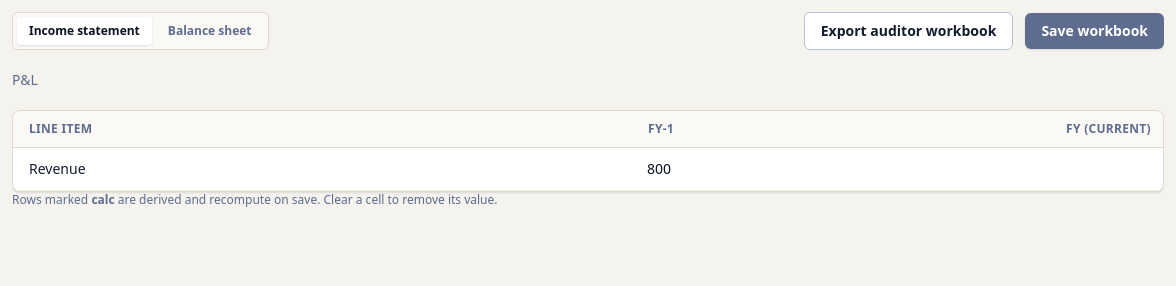
Test case: WorkbookTab — edges › when the server will not answer › says why the auditor export could not be produced
Check: the text "Revenue" is shown, box [13, 148, 209, 190]
Click the button "Export auditor workbook": {"x": 909, "y": 31} [804, 12, 1013, 50]
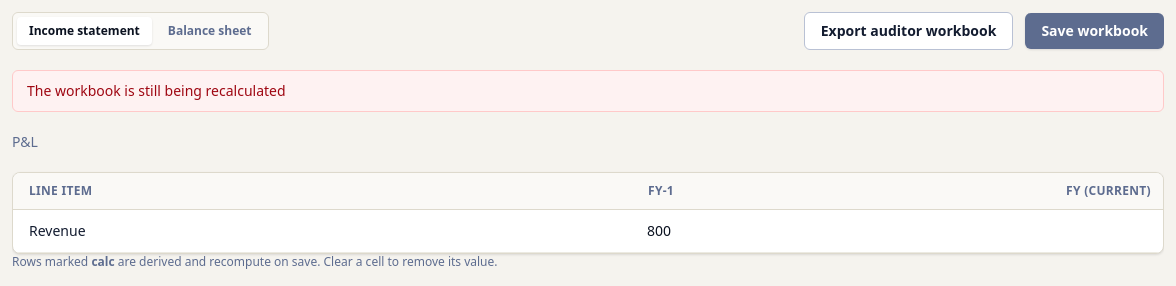
Check: the text "The workbook is still being recalculated" is shown, box [12, 70, 1164, 112]
